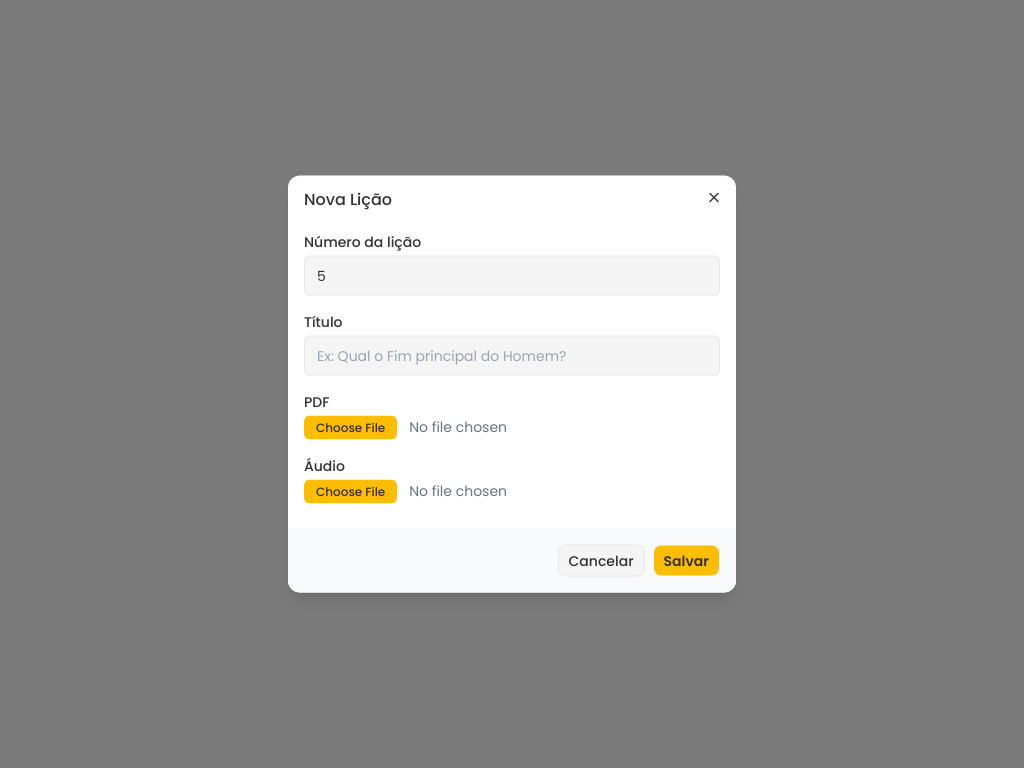
CreateLessonDialog › does not throw when lesson creation fails with empty response body
In the field labelled "Título": (512, 356) [304,336,720,376], type "Minha Lição"
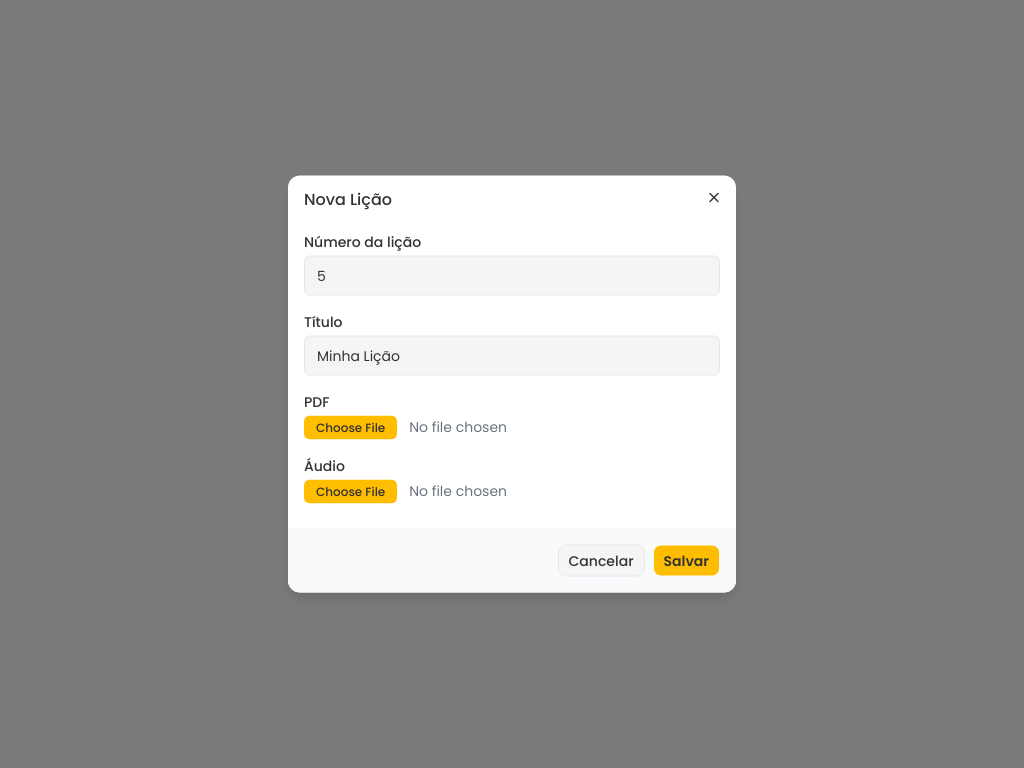
Click the button "Salvar": (686, 560) [652,544,720,576]
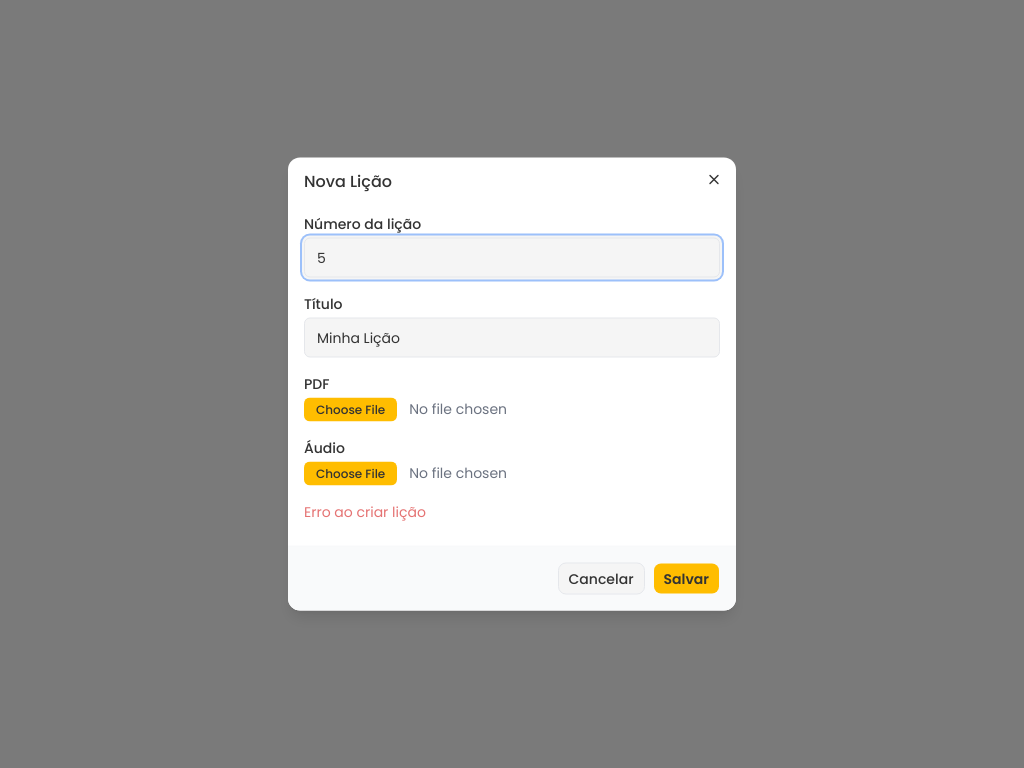
Check: the text "Erro ao criar lição" is shown, box [304,502,426,522]
